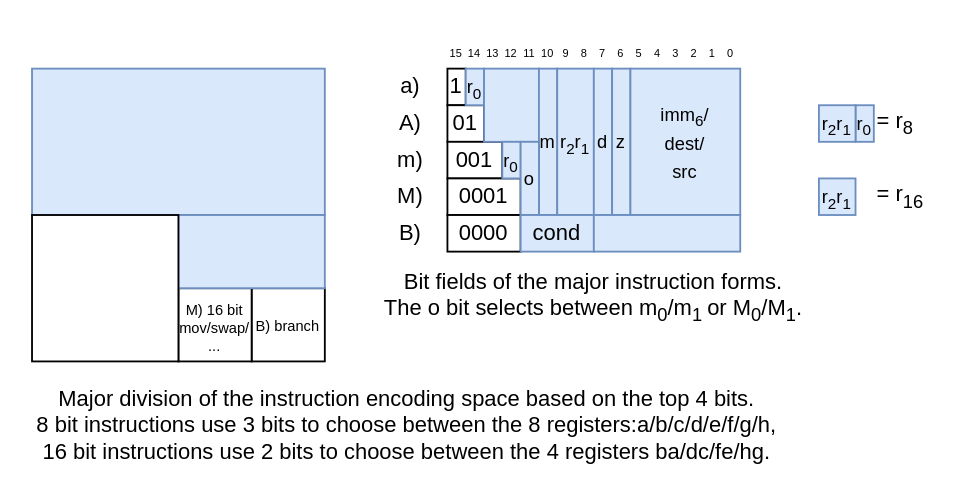
Some shapes in this 979 by 501 pixel diagram are drawn without their labels. Each missing label, with the centre of its shape:
"A) 16 bit binop/shift" belongs at point 104,287.
"a) 8 bit binop/shift" belongs at point 177,141.
"binop" belongs at point 510,104.
"m) 8 bit mov/ swap/..." belongs at point 251,250.
"offset" belongs at point 666,232.
